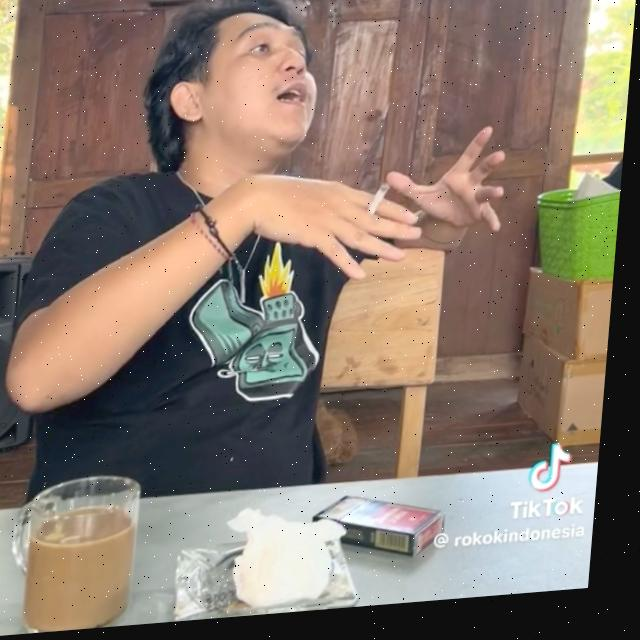cigarette: (372, 190, 395, 223)
